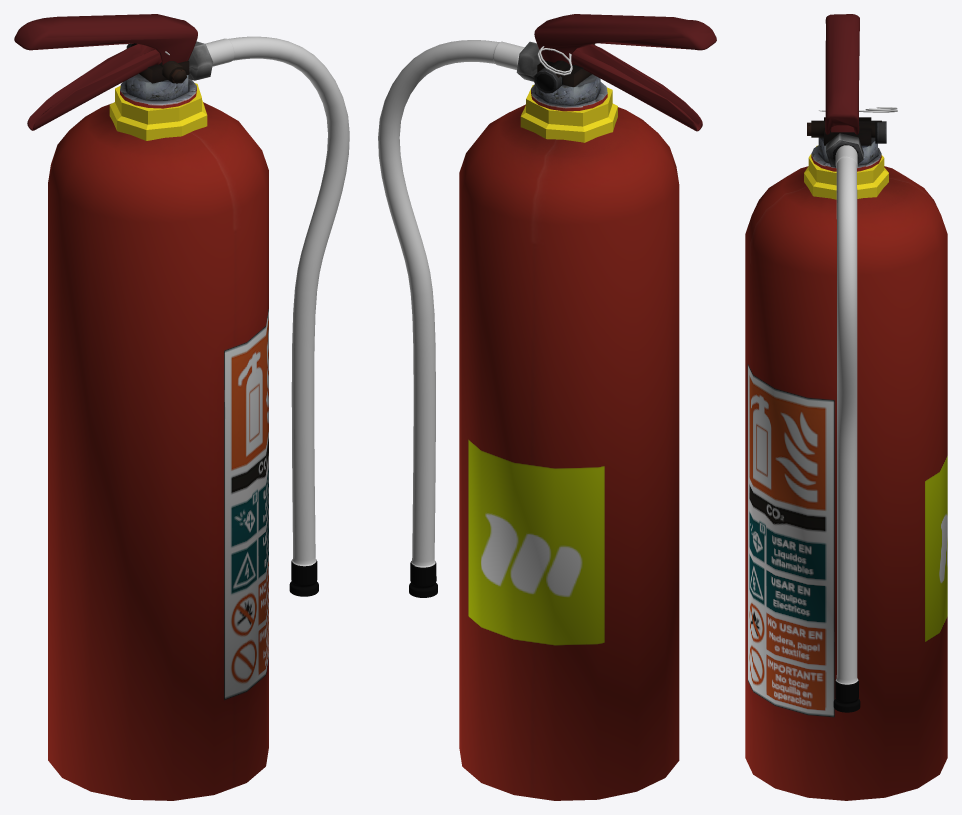
The model's file is Extintor Polvo Quimico Seco.fbx.
3 renders of one model, left to right at view 1: azimuth 30°, elevation 25°; view 2: azimuth 150°, elevation 25°; view 3: azimuth 270°, elevation 25°, orthographic. The views are drawn at different scales.
Visible parts, largest first — view 1: fire_extinguisher_c02, 10285_Fire Extinguisher_v3_iterations-2.004, 10285_Fire Extinguisher_v3_iterations-2.001, 10285_Fire Extinguisher_v3_iterations-2.003, Cube, fire_extinguisher_c02.001; view 2: fire_extinguisher_c02, 10285_Fire Extinguisher_v3_iterations-2.004, 10285_Fire Extinguisher_v3_iterations-2.001, 10285_Fire Extinguisher_v3_iterations-2.003, Cube, fire_extinguisher_c02.001; view 3: fire_extinguisher_c02, 10285_Fire Extinguisher_v3_iterations-2.004, 10285_Fire Extinguisher_v3_iterations-2.001, Cube, fire_extinguisher_c02.001.
Boxes of the visible parts, x1,y1,x2,y2 form: fire_extinguisher_c02: (48,43,268,800); 10285_Fire Extinguisher_v3_iterations-2.004: (205,36,349,596); 10285_Fire Extinguisher_v3_iterations-2.001: (14,14,197,64); 10285_Fire Extinguisher_v3_iterations-2.003: (27,44,161,130); Cube: (109,83,207,140); fire_extinguisher_c02.001: (126,41,213,100); fire_extinguisher_c02: (459,44,679,800); 10285_Fire Extinguisher_v3_iterations-2.004: (378,40,524,597); 10285_Fire Extinguisher_v3_iterations-2.001: (534,14,716,64); 10285_Fire Extinguisher_v3_iterations-2.003: (571,44,702,131); Cube: (520,85,617,142); fire_extinguisher_c02.001: (516,41,600,105); fire_extinguisher_c02: (745,120,947,800); 10285_Fire Extinguisher_v3_iterations-2.004: (833,145,860,712); 10285_Fire Extinguisher_v3_iterations-2.001: (825,14,859,134); Cube: (804,145,888,199); fire_extinguisher_c02.001: (818,117,877,167).
Size of the model in its own units: 26.09 by 57.24 by 15.2.
